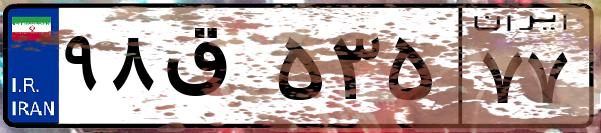3: (330, 28, 385, 110)
5: (270, 28, 330, 110), (385, 28, 445, 110)
7: (475, 38, 525, 113), (525, 38, 570, 115)
8: (110, 28, 158, 98)
9: (57, 26, 110, 100)
ق: (158, 20, 270, 120)
